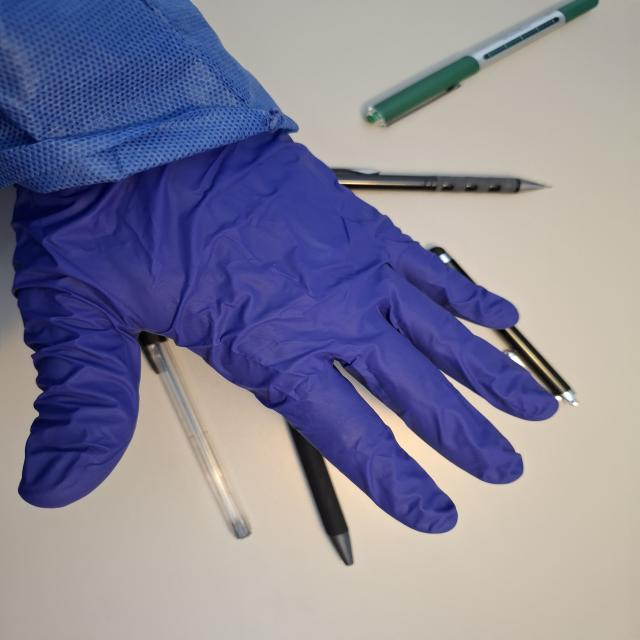glove_on: (7, 121, 564, 538)
